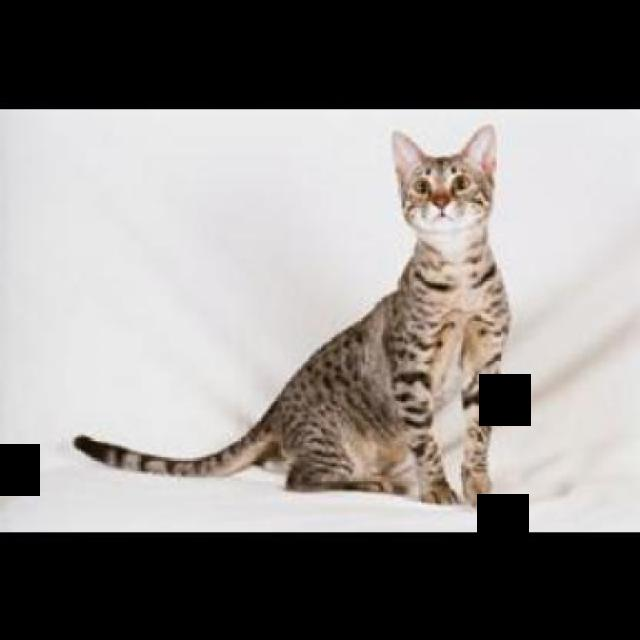unauthorized: (71, 121, 511, 508)
